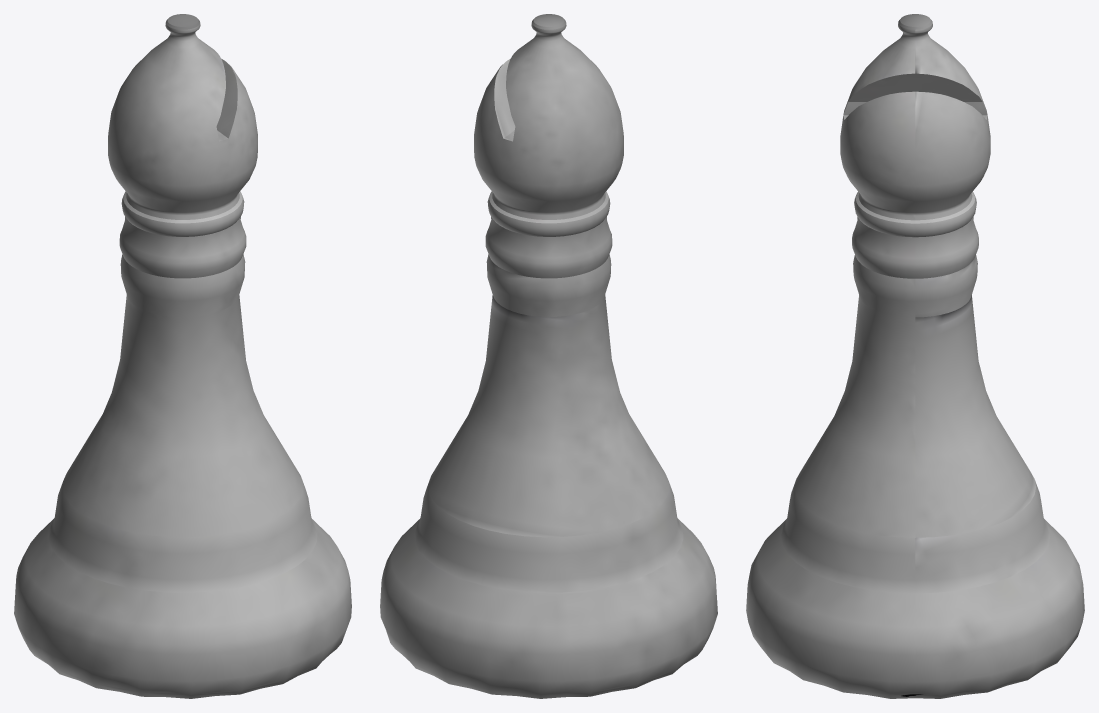
File: alfil_Blanca.glb
3 views of the same model, side by side, from view 1: azimuth 30°, elevation 25°; view 2: azimuth 150°, elevation 25°; view 3: azimuth 270°, elevation 25° (orthographic).
Visible parts, largest first — view 1: defaultMaterial.009; view 2: defaultMaterial.009; view 3: defaultMaterial.009.
Part boxes in pixels (bbox=[...]): defaultMaterial.009: bbox=[14, 14, 351, 698]; defaultMaterial.009: bbox=[380, 14, 717, 698]; defaultMaterial.009: bbox=[746, 14, 1084, 698].
Bounding box in the file's own units: 0.8321 × 1.67 × 0.8321.
1 material, 1 textured.
